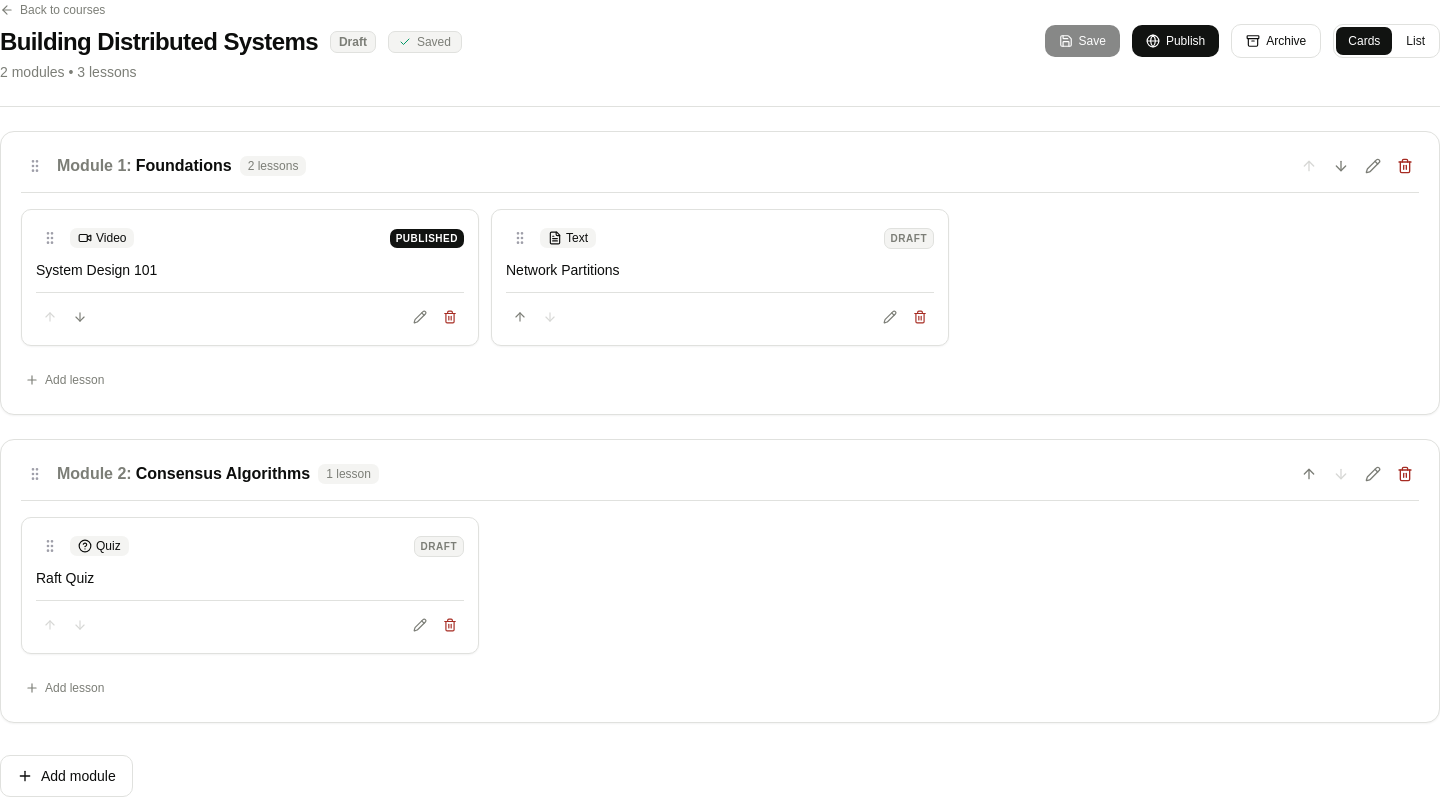
it: CourseOutlineBuilder › successfully publishes a draft course and updates status badge
Click the button with aria-label "Publish course": click(1176, 41) left=1132, top=25, right=1219, bottom=57
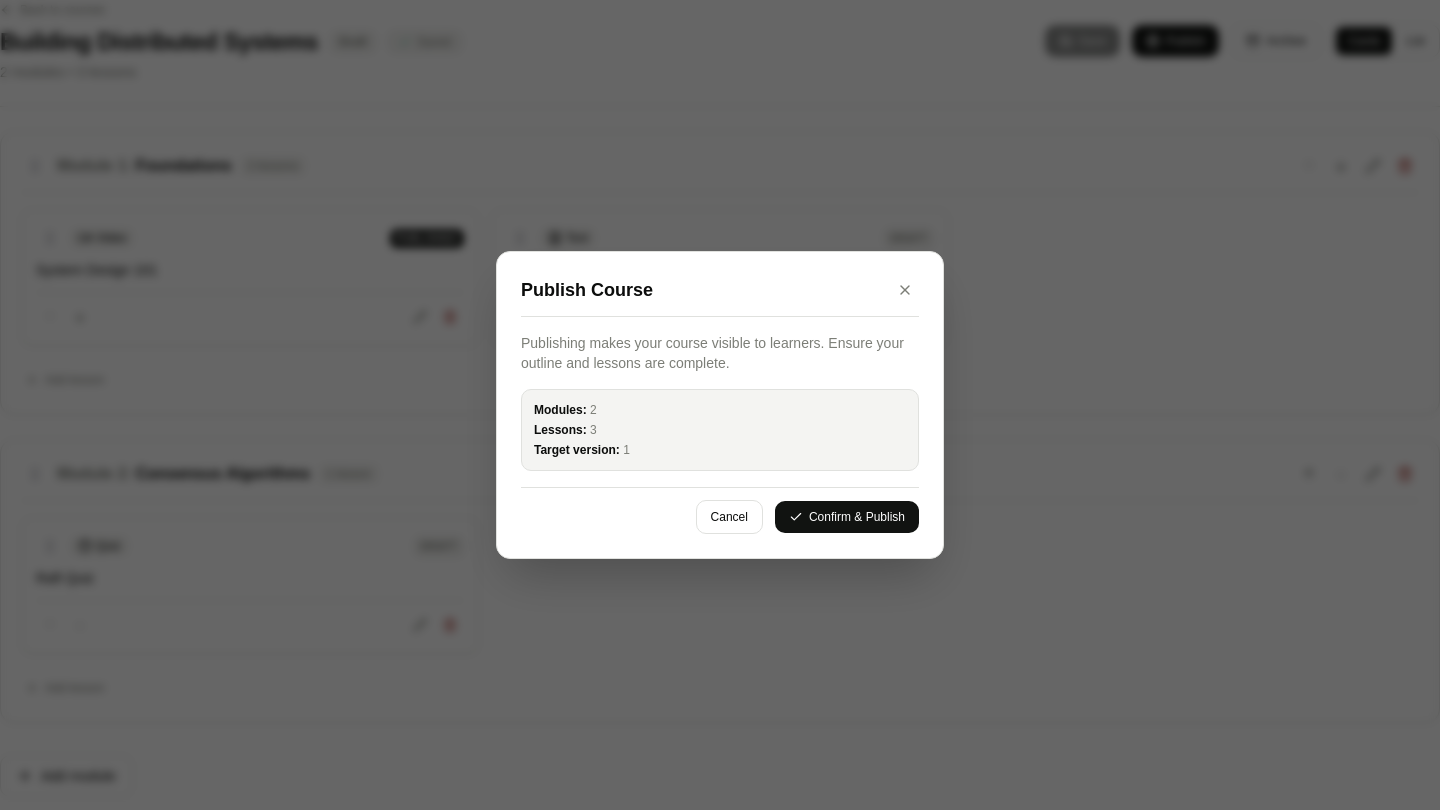
Click the button "Confirm & Publish": click(847, 517) left=775, top=501, right=919, bottom=533
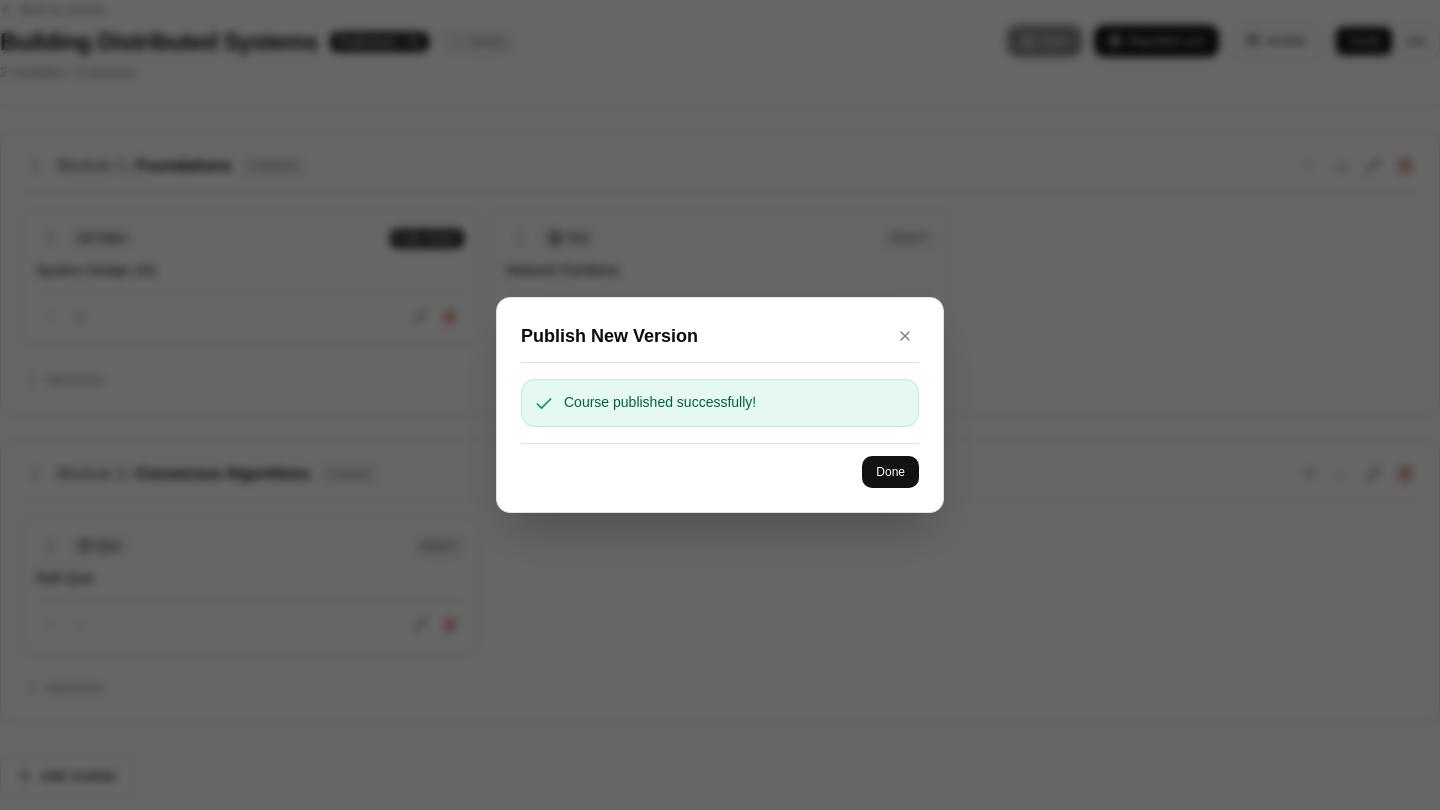
Check: the text "Course published successfully!" is shown, box left=564, top=392, right=756, bottom=412
Click the button "Done": click(891, 472) left=862, top=456, right=919, bottom=488
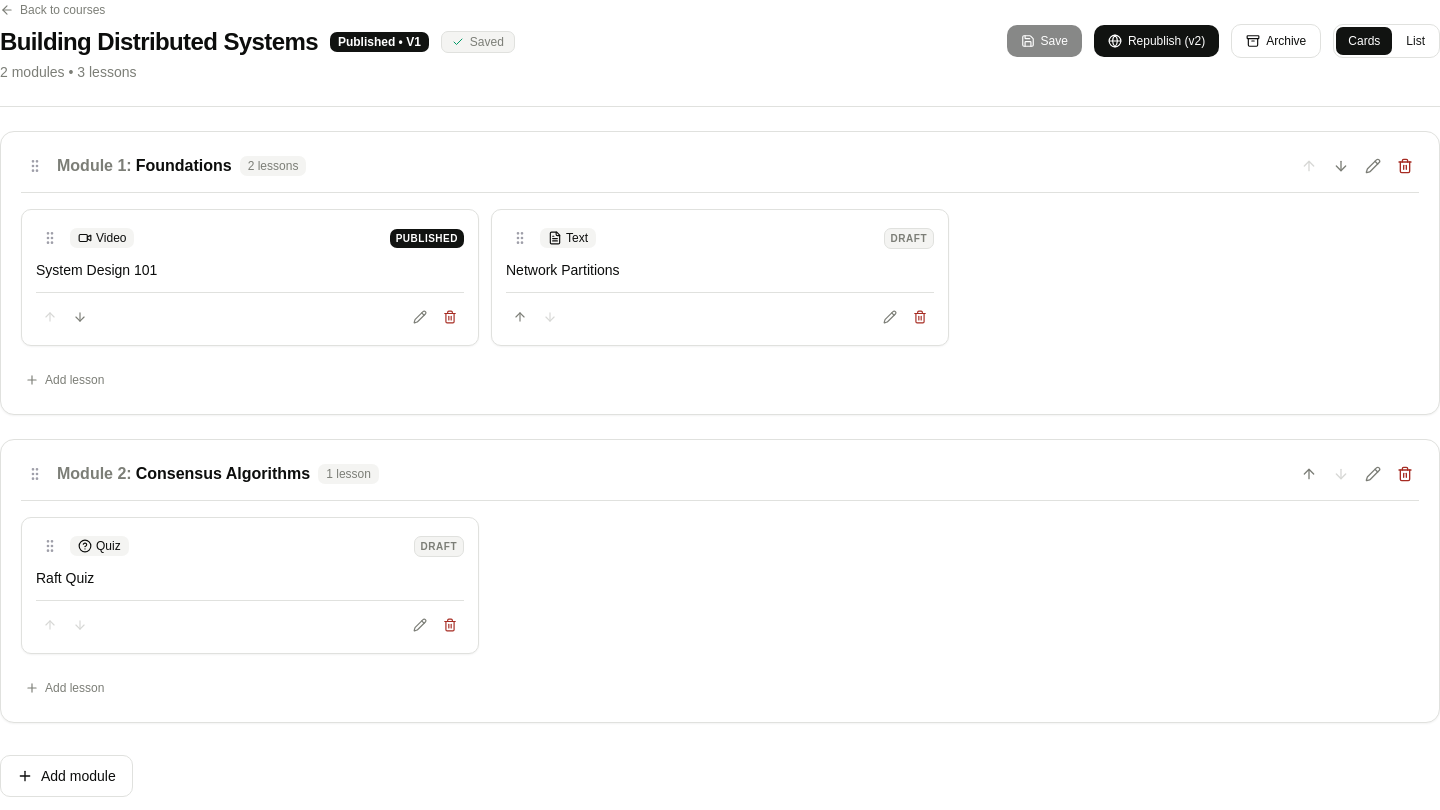
Check: the text "Published • v1" is shown, box left=330, top=32, right=429, bottom=52
Check: the dialog is gone
